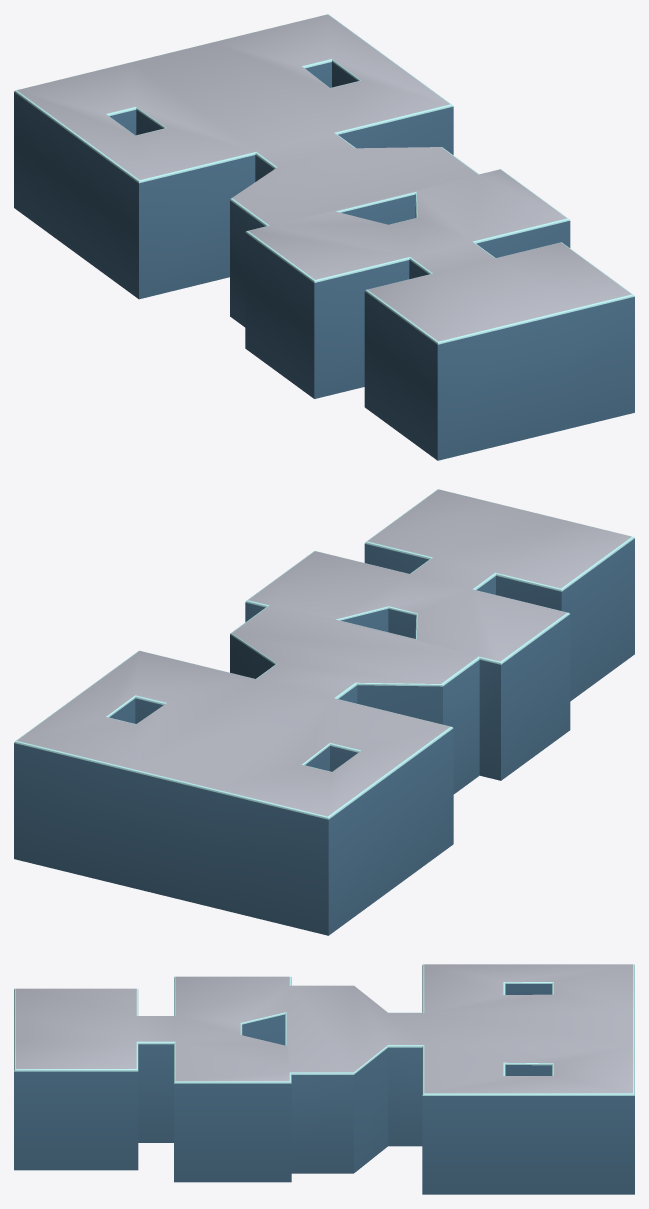
File: Lvl1.fbx
3 renders of one model, top to bottom at view 1: azimuth 30°, elevation 25°; view 2: azimuth 150°, elevation 25°; view 3: azimuth 270°, elevation 25°, orthographic. The views are drawn at different scales.
Visible parts, largest first — view 1: lvl1; view 2: lvl1; view 3: lvl1.
Part boxes in pixels (x1,y1,x2,y2): lvl1: [14, 14, 634, 460]; lvl1: [14, 489, 634, 935]; lvl1: [14, 964, 634, 1194].
Size of the model in its own units: 3966 by 1421 by 7971.
